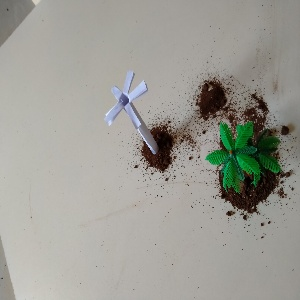plant: (212, 117, 279, 198)
weed: (110, 77, 162, 155)
